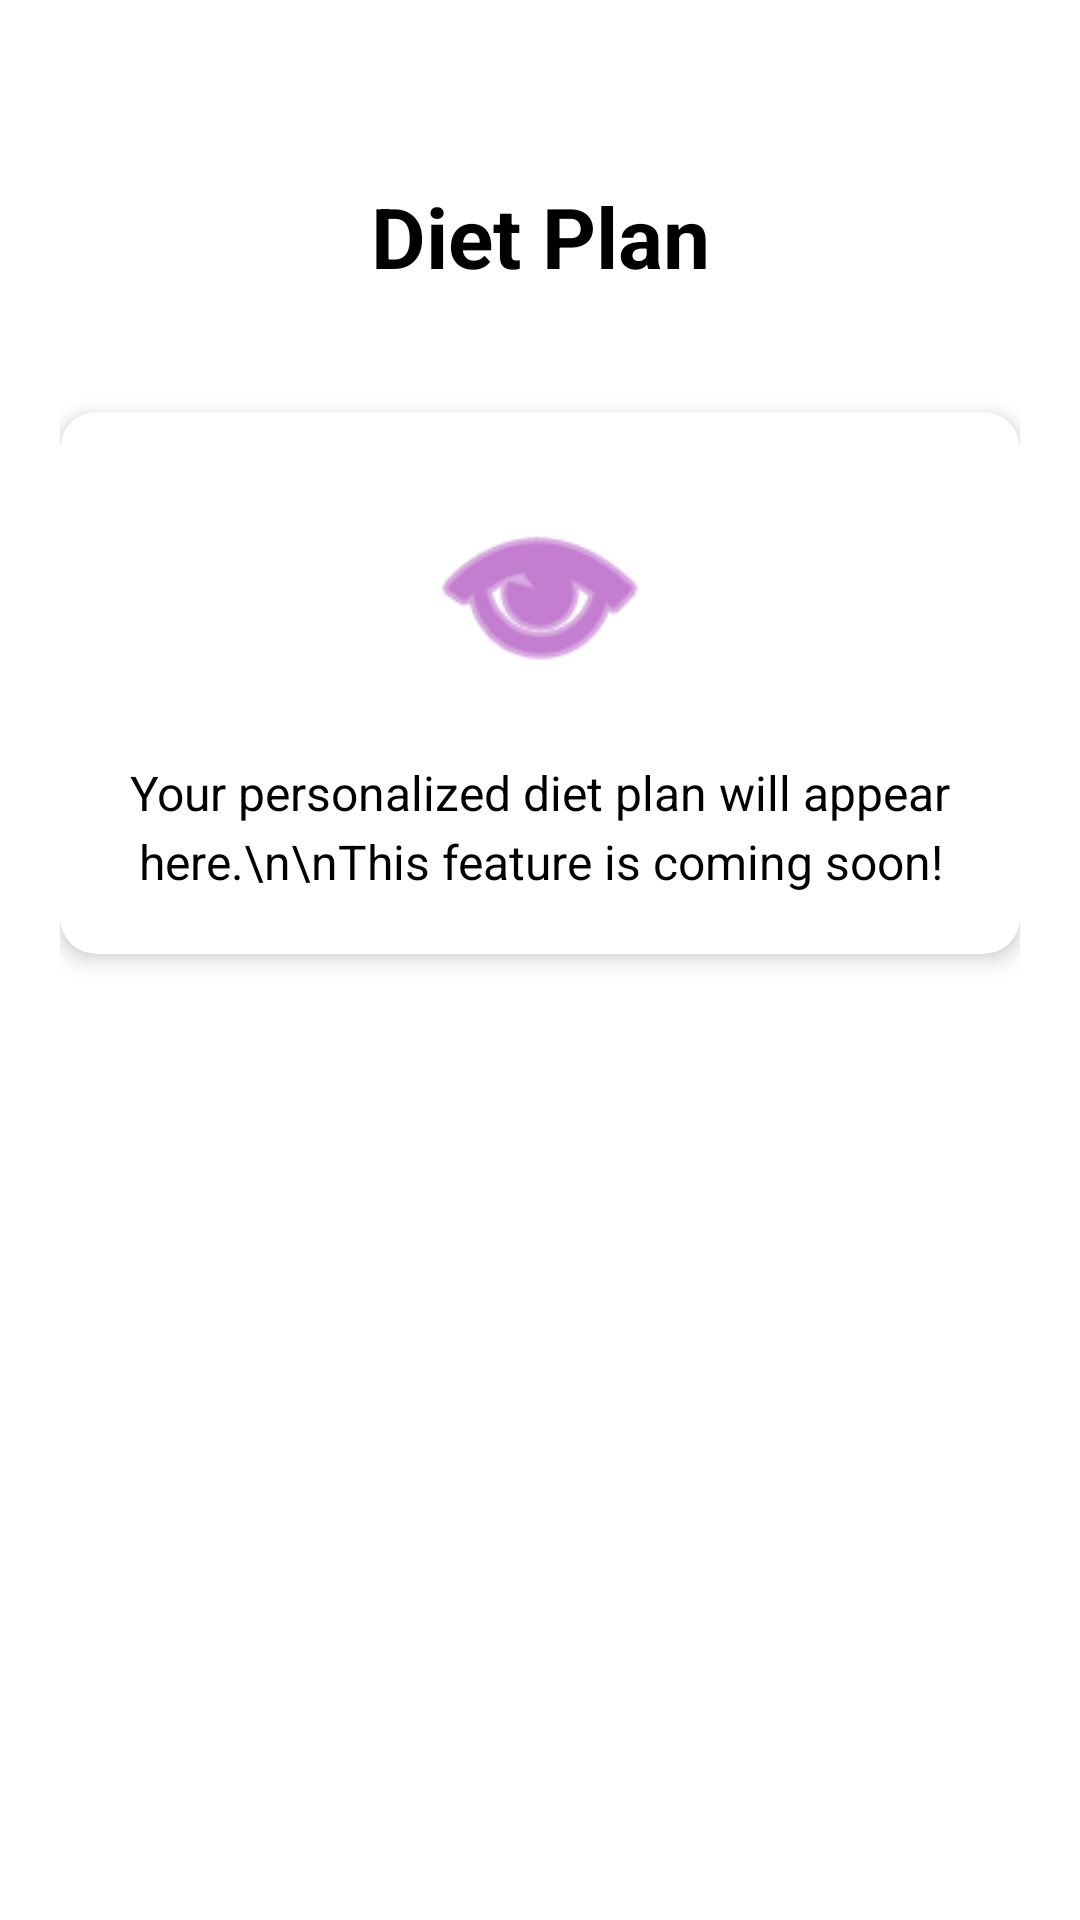

Screen size 1080×1920. Icon name, then its box in pixels as bbox=[x1, y1, x2, y2]:
view: bbox=[442, 537, 638, 660]
